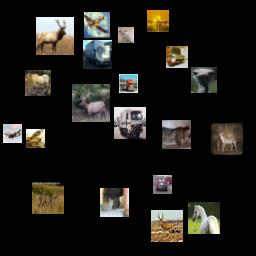airplane: (84, 12, 110, 38), (147, 10, 169, 32), (3, 124, 22, 143)
automobile: (153, 175, 172, 194)
bird: (191, 67, 217, 93), (26, 129, 45, 148)
cat: (162, 120, 191, 149), (100, 188, 129, 217), (118, 27, 134, 43)
deer: (36, 17, 74, 55), (72, 84, 110, 122), (211, 123, 243, 155), (32, 182, 64, 214), (151, 210, 183, 242)
truck: (114, 107, 146, 139), (83, 40, 112, 69), (166, 46, 188, 68), (119, 74, 138, 93)
